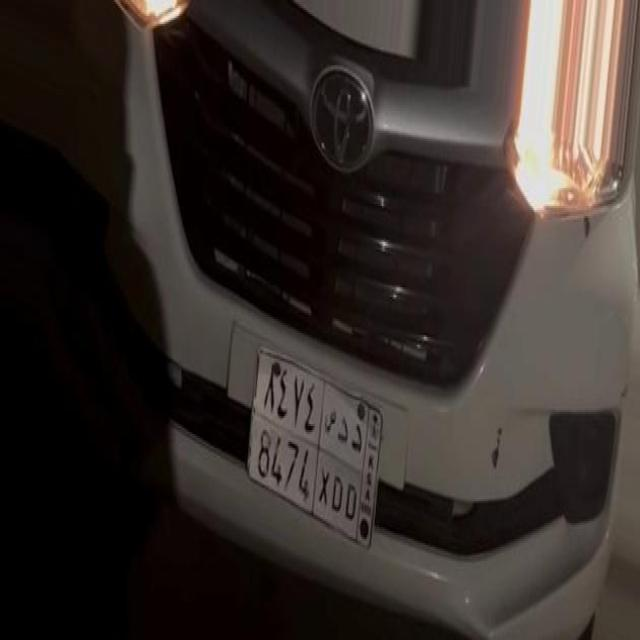Car-plate: (233, 317, 400, 572)
